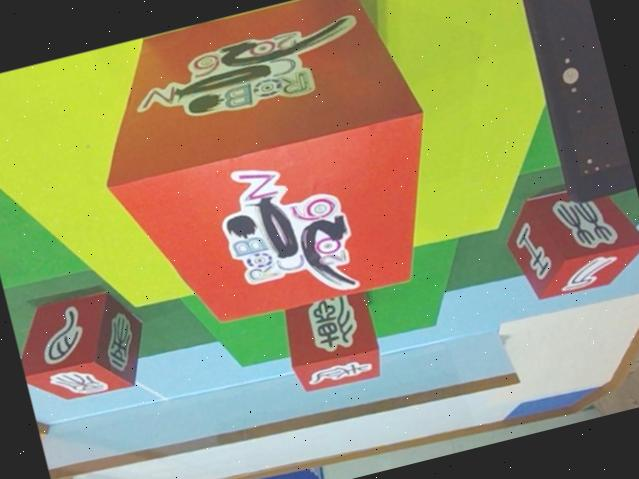R1: (71, 0, 467, 350)
R2 Fake: (8, 278, 159, 414), (493, 170, 639, 309), (272, 282, 387, 399)
